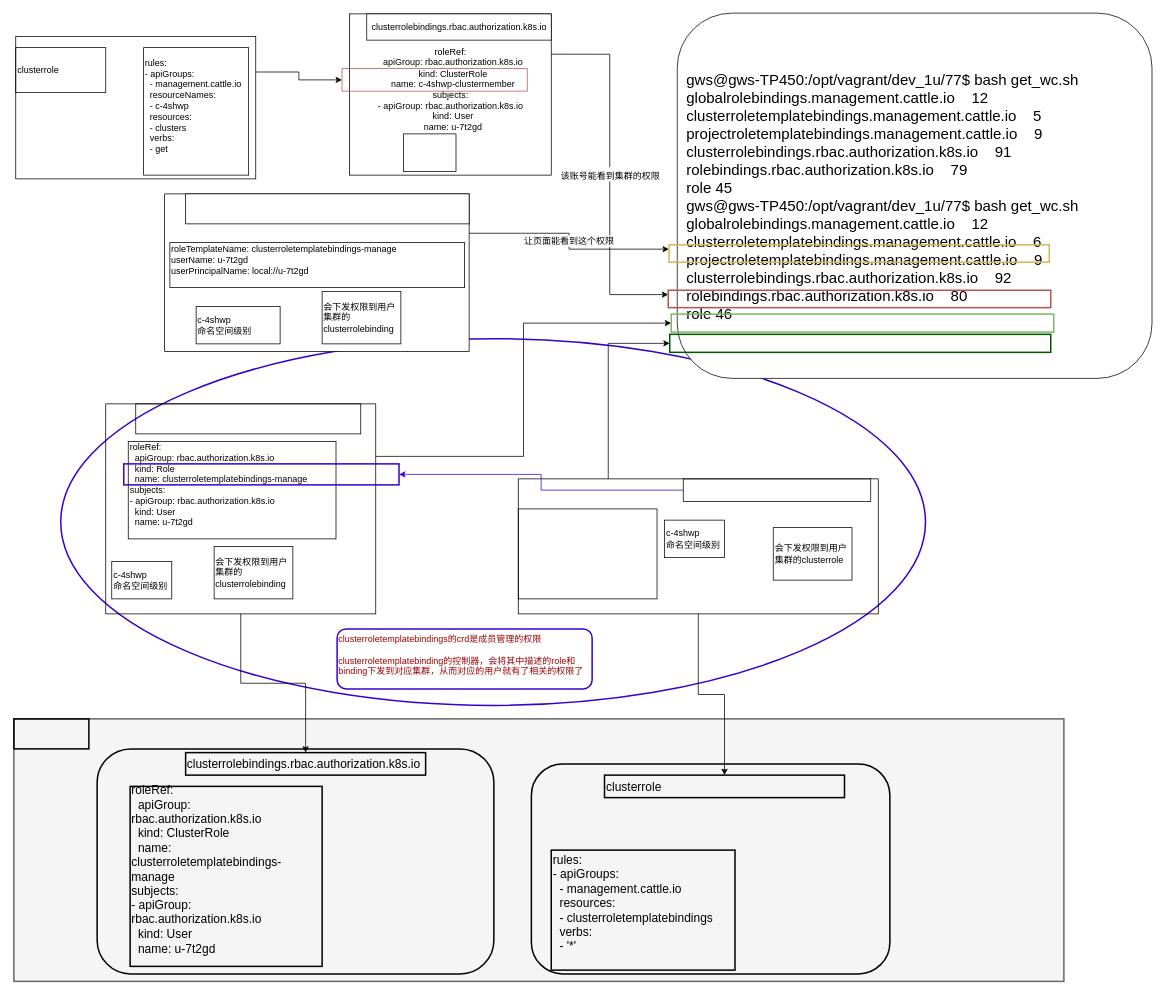
This 1165x995 diagram has some shape labels left out. The shapes that lost their labels are listed below. From the top down, each one's centre as x and y in pixels, then its label:
[429,152]: global 集群级别
[327,208]: clusterroletemplatebindings.management.cattle.io
[248,418]: rolebindings.rbac.authorization.k8s.io
[776,489]: role: clusterroletemplatebindings-manage
[587,553]: rules: - apiGroups: - '*' resources: - clusterroletemplatebindings verbs: - '*'
[51,733]: 用户集群
